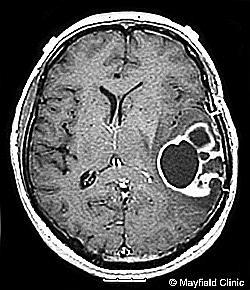Tumor: (158, 123, 224, 199)
